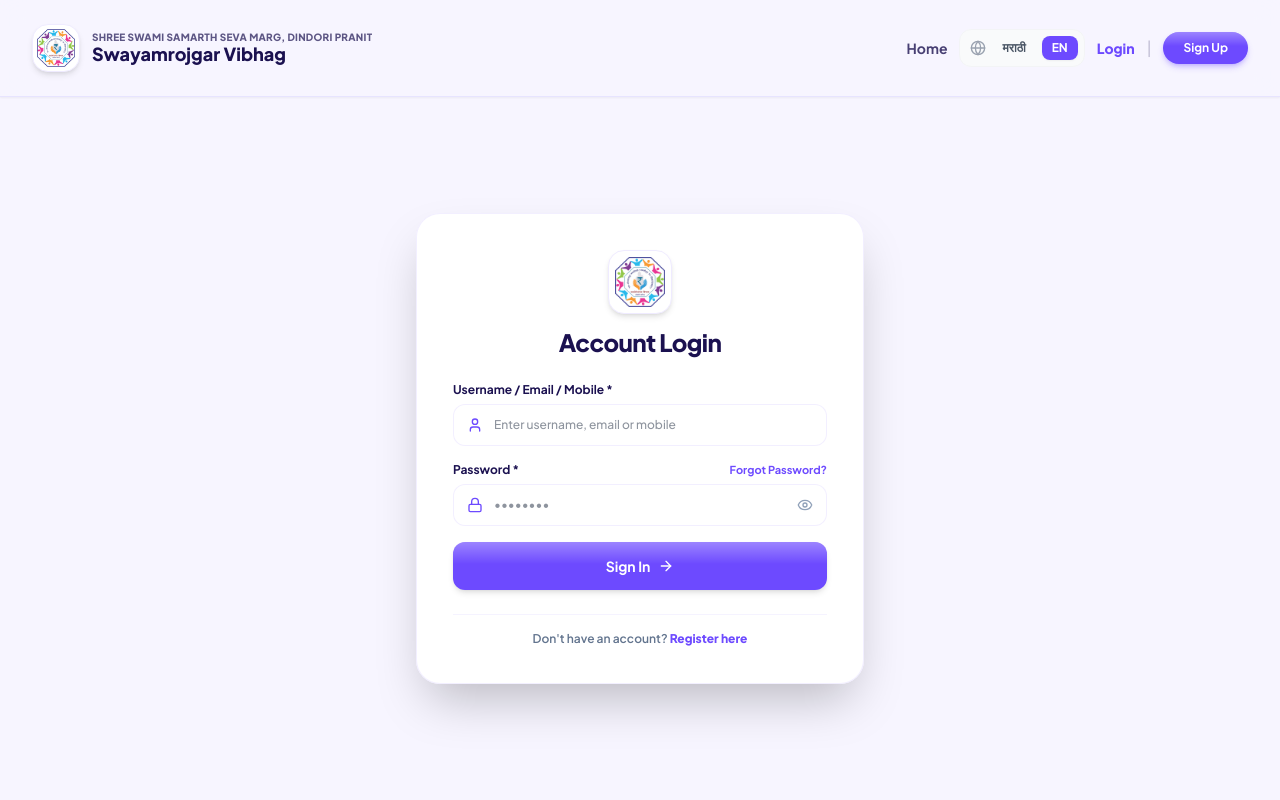
Test case: Login › shows the backend error when login fails
Type "asha@example.com" into the field labelled "Username / Email / Mobile *" at x=640, y=425, box x1=453 y1=404 x2=827 y2=446
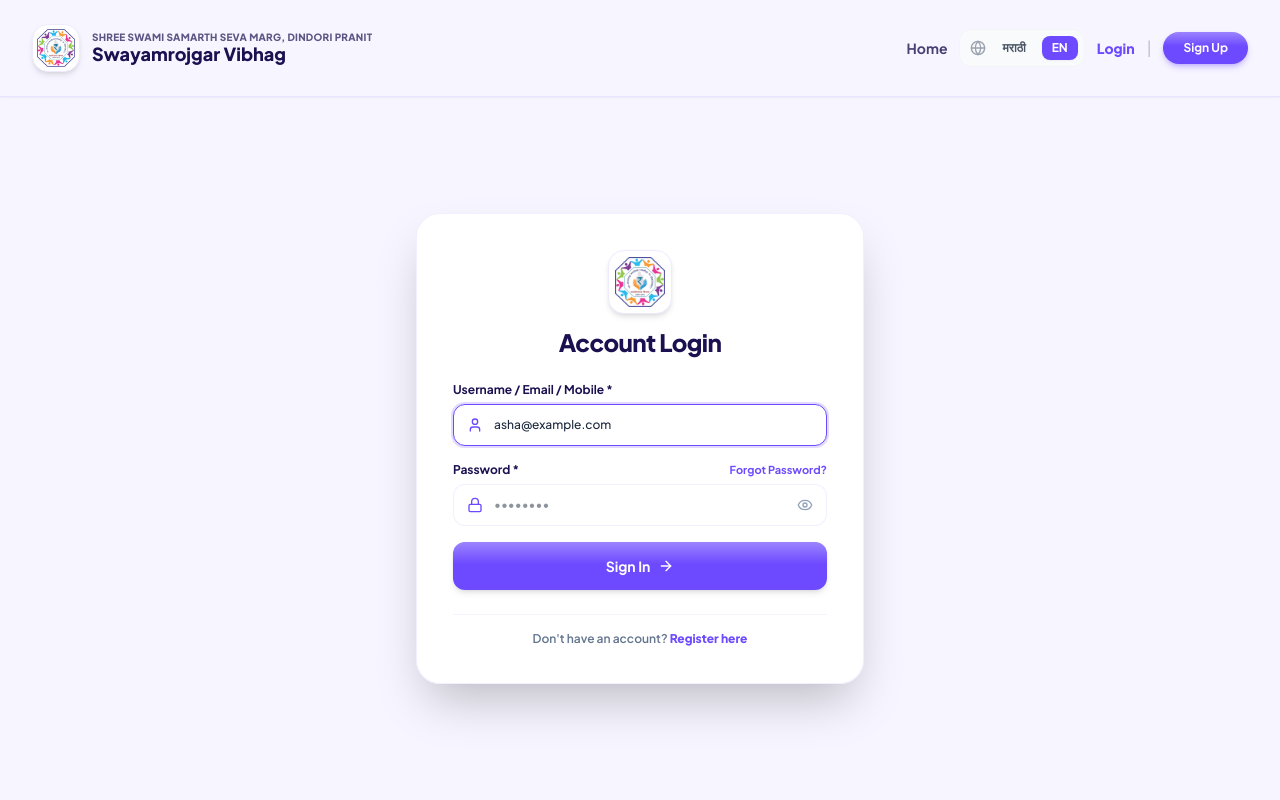
Type "wrong" into the password field labelled "Password *" at x=640, y=505, box x1=453 y1=484 x2=827 y2=526
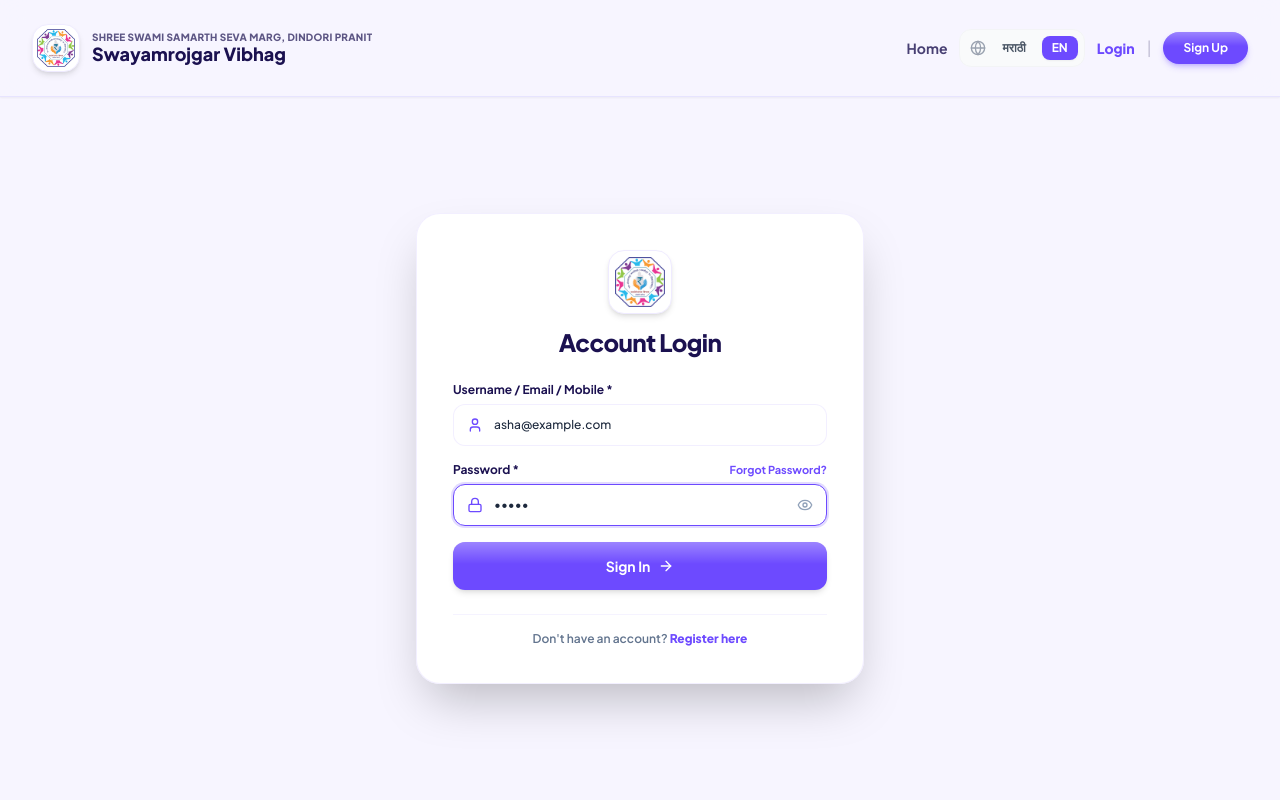
Click the button "Sign In" at x=640, y=566, box x1=453 y1=542 x2=827 y2=590
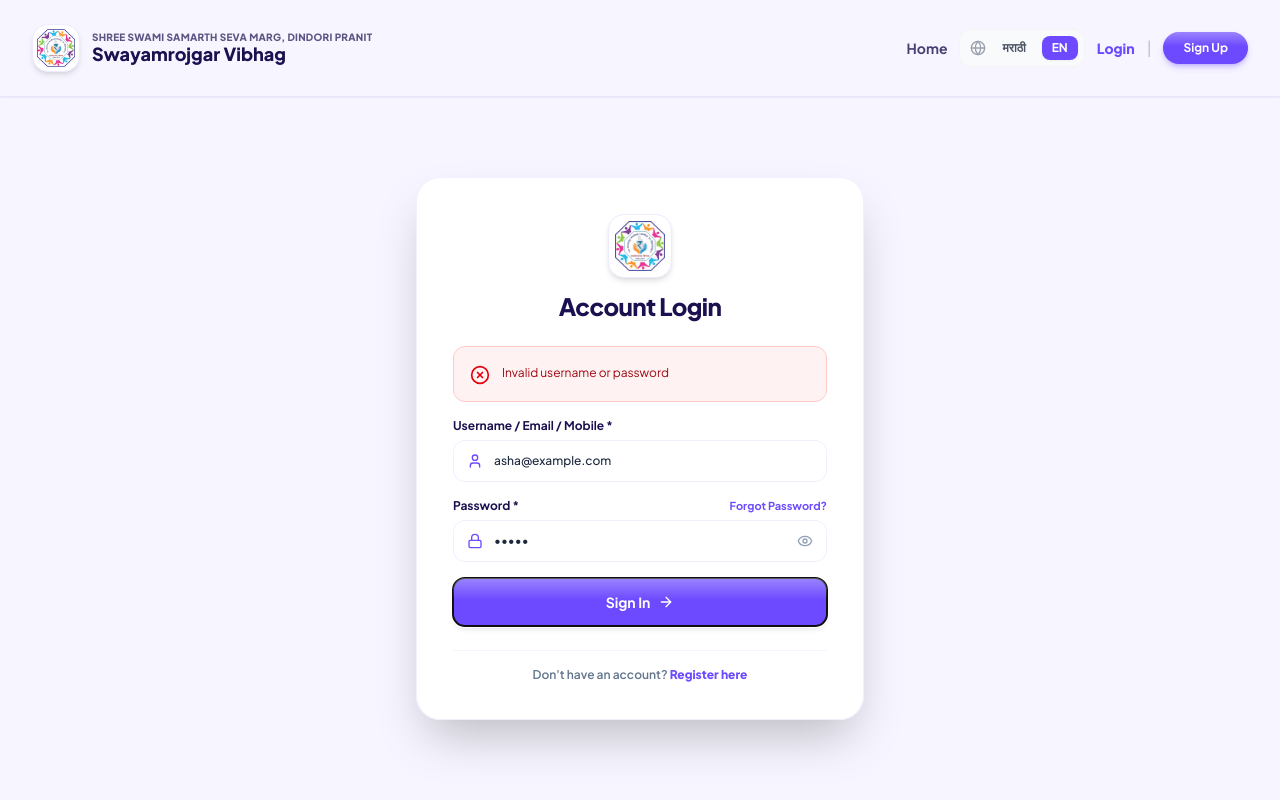
Now the text "Invalid username or password" is shown, box x1=502 y1=365 x2=669 y2=380
